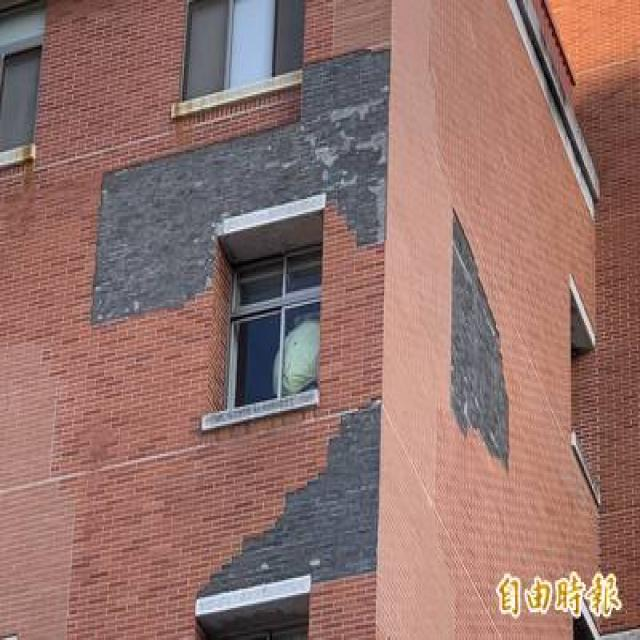tile: (92, 46, 390, 324), (198, 398, 381, 598), (450, 206, 506, 469)
